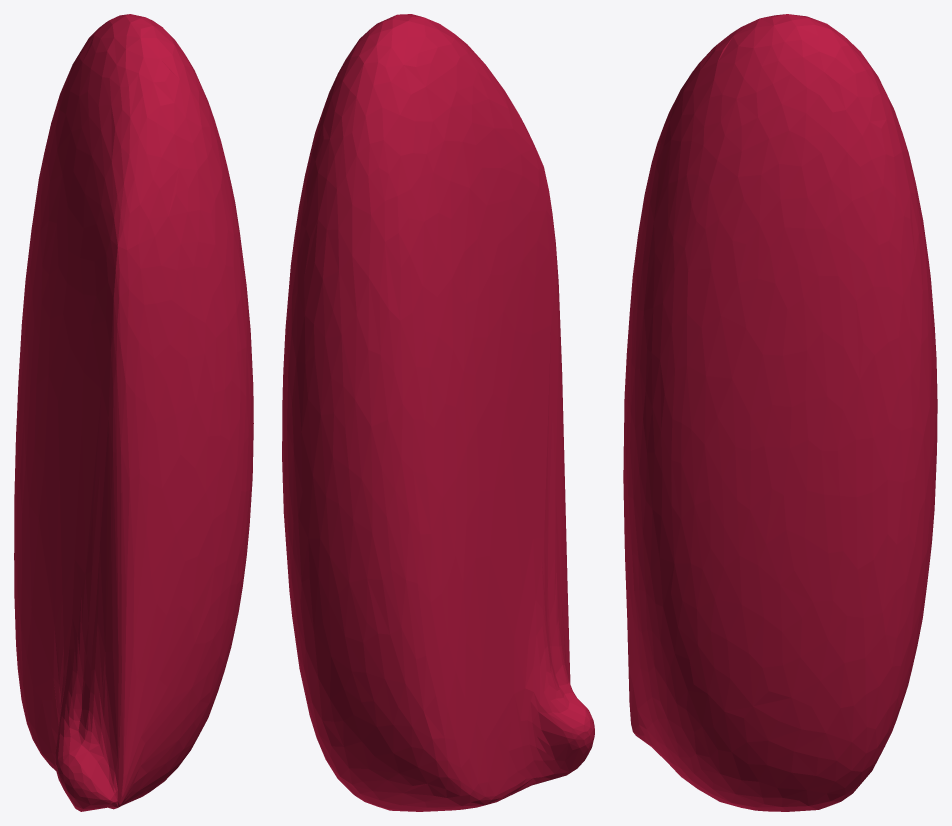
3 renders of one model, left to right at view 1: azimuth 30°, elevation 25°; view 2: azimuth 150°, elevation 25°; view 3: azimuth 270°, elevation 25°, orthographic. The views are drawn at different scales.
Parts seen in each view (by area): view 1: 367_Cube.1499; view 2: 367_Cube.1499; view 3: 367_Cube.1499.
Boxes of the visible parts, x1=… form: 367_Cube.1499: x1=14, y1=14, x2=253, y2=811; 367_Cube.1499: x1=282, y1=14, x2=594, y2=811; 367_Cube.1499: x1=623, y1=14, x2=937, y2=811.
Size of the model in its own units: 3.38 by 11.22 by 4.
